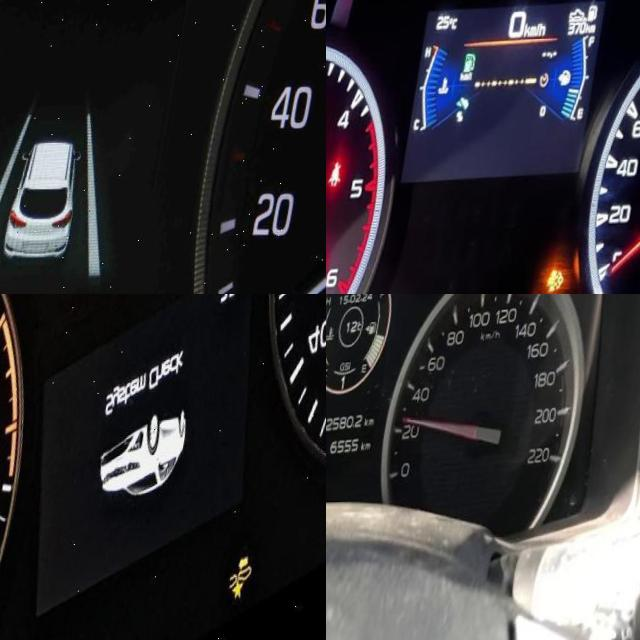Seat Belt: (342, 161, 360, 188)
